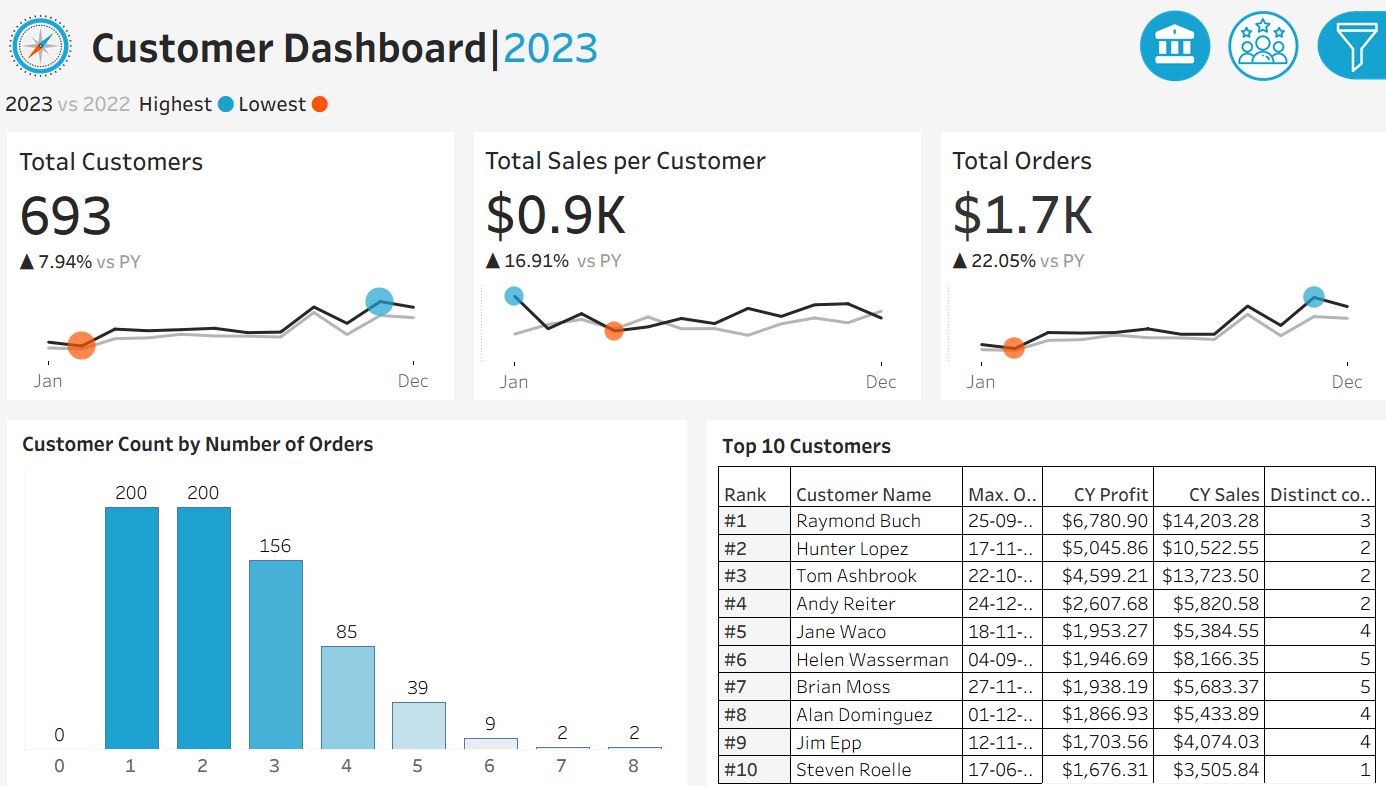

Layout of this report page (visuals, bound fields, positions):
{"tool":"tableau","page":{"name":"Customer Dashboard","canvas":[1400,800],"ordinal":0},"visuals":[{"type":"image","param":"Image/Icon - Logo.png","box":[0,0,86,81]},{"type":"text","box":[86,0,1047,81]},{"type":"dashboard-object","box":[1133,0,89,81]},{"type":"dashboard-object","box":[1222,0,89,81]},{"type":"dashboard-object","box":[1311,0,89,81]},{"type":"worksheet","title":"Legend KPIs","mark":"Automatic","box":[0,81,1400,36]},{"type":"blank","box":[1153,105,227,41]},{"type":"worksheet","title":"KPI Customer","mark":"Line","rows":["Calculation_0717731072864258"],"cols":["Order Date"],"box":[0,117,467,288]},{"type":"worksheet","title":"KPI Sales per Customer","mark":"Line","rows":["Calculation_0717731100860430"],"cols":["Order Date"],"box":[467,117,467,288]},{"type":"worksheet","title":"KPI Orders","mark":"Automatic","rows":["Calculation_0717731110014996"],"cols":["Order Date"],"box":[934,117,466,288]},{"type":"text","box":[1153,146,227,33]},{"type":"parameter","param":"[Parameters].[Parameter 1154511013814272]","box":[1153,179,227,60]},{"type":"blank","box":[1153,239,227,69]},{"type":"text","box":[1153,308,227,33]},{"type":"filter","title":"KPI Customer","param":"[federated.13z85u015viy7p0zvxib415emt4u].[none:Region:nk]","box":[1153,341,227,70]},{"type":"filter","title":"KPI Customer","param":"[federated.13z85u015viy7p0zvxib415emt4u].[none:State:nk]","box":[1153,411,227,70]},{"type":"text","box":[17,422,666,32]},{"type":"text","box":[717,422,666,35]},{"type":"worksheet","title":"CustomerbyOrders","mark":"Bar","rows":["Calculation_0717731068162048"],"cols":["Calculation_0828782058532864"],"box":[17,454,666,329]},{"type":"worksheet","title":"Top 10  Customers","mark":"Automatic","rows":["Calculation_0828782076682244","Customer Name","Order Date"],"box":[717,457,666,326]},{"type":"filter","title":"KPI Customer","param":"[federated.13z85u015viy7p0zvxib415emt4u].[none:City:nk]","box":[1153,481,227,70]},{"type":"blank","box":[1153,551,227,59]},{"type":"text","box":[1153,610,227,33]},{"type":"filter","title":"KPI Customer","param":"[federated.13z85u015viy7p0zvxib415emt4u].[none:Category:nk]","box":[1153,643,227,70]},{"type":"filter","title":"KPI Customer","param":"[federated.13z85u015viy7p0zvxib415emt4u].[none:Sub-Category:nk]","box":[1153,713,227,70]}]}

Visuals, with their boxes in screenshot pixels (x1, y1, x2, y2), scaled from the page's 1400x800 canvas onto the 1386x786 screenshot:
image: <region>0, 0, 85, 80</region>
text: <region>85, 0, 1122, 80</region>
dashboard-object: <region>1122, 0, 1210, 80</region>
dashboard-object: <region>1210, 0, 1298, 80</region>
dashboard-object: <region>1298, 0, 1385, 80</region>
"Legend KPIs" worksheet: <region>0, 80, 1385, 115</region>
blank: <region>1141, 103, 1366, 143</region>
"KPI Customer" worksheet (Line marks): <region>0, 115, 462, 398</region>
"KPI Sales per Customer" worksheet (Line marks): <region>462, 115, 925, 398</region>
"KPI Orders" worksheet: <region>925, 115, 1385, 398</region>
text: <region>1141, 143, 1366, 176</region>
parameter: <region>1141, 176, 1366, 235</region>
blank: <region>1141, 235, 1366, 303</region>
text: <region>1141, 303, 1366, 335</region>
"KPI Customer" filter: <region>1141, 335, 1366, 404</region>
"KPI Customer" filter: <region>1141, 404, 1366, 473</region>
text: <region>17, 415, 676, 446</region>
text: <region>710, 415, 1369, 449</region>
"CustomerbyOrders" worksheet (Bar marks): <region>17, 446, 676, 769</region>
"Top 10  Customers" worksheet: <region>710, 449, 1369, 769</region>
"KPI Customer" filter: <region>1141, 473, 1366, 541</region>
blank: <region>1141, 541, 1366, 599</region>
text: <region>1141, 599, 1366, 632</region>
"KPI Customer" filter: <region>1141, 632, 1366, 701</region>
"KPI Customer" filter: <region>1141, 701, 1366, 769</region>
